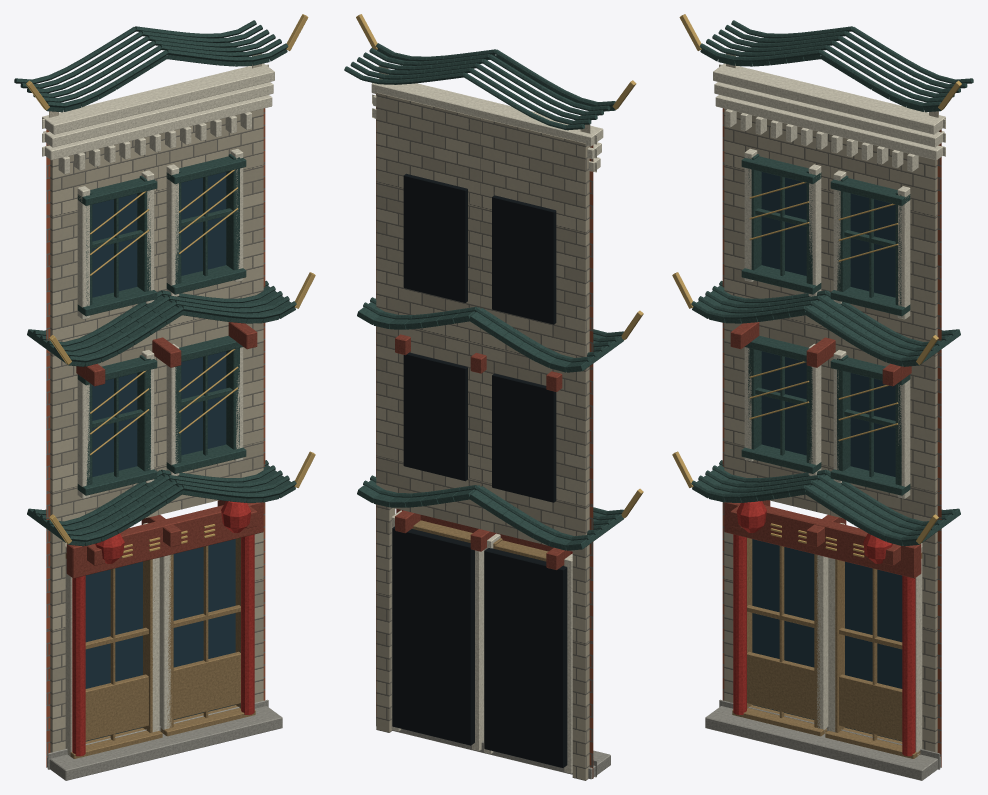
The model's file is CHINA12_lod1.glb.
The picture shows the model from 3 angles, left to right: view 1: azimuth 30°, elevation 25°; view 2: azimuth 150°, elevation 25°; view 3: azimuth 330°, elevation 25°; orthographic projection.
Parts seen in each view (by area): view 1: CHINA12_FRONT_LOD1; view 2: CHINA12_FRONT_LOD1; view 3: CHINA12_FRONT_LOD1.
Part boxes in pixels (bbox=[...]): CHINA12_FRONT_LOD1: bbox=[14, 14, 315, 780]; CHINA12_FRONT_LOD1: bbox=[344, 14, 643, 780]; CHINA12_FRONT_LOD1: bbox=[672, 14, 973, 780].
Bounding box in the file's own units: 4.25 × 10.17 × 1.3.
Materials: 13 (10 with a texture image).
